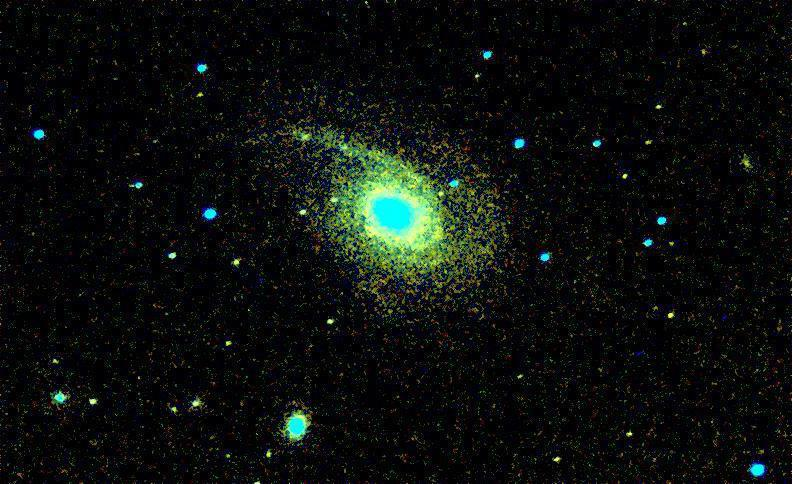star: (657, 299, 687, 329)
